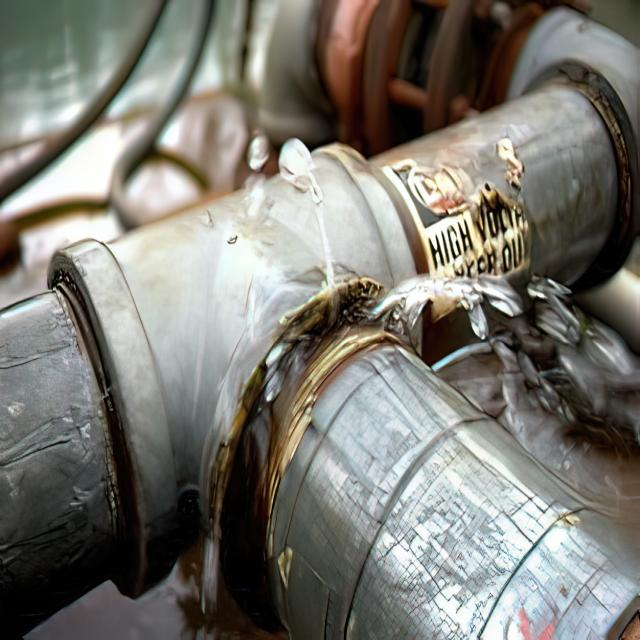leak: (368, 275, 640, 452), (200, 292, 285, 614), (275, 139, 335, 299), (248, 180, 265, 215)
